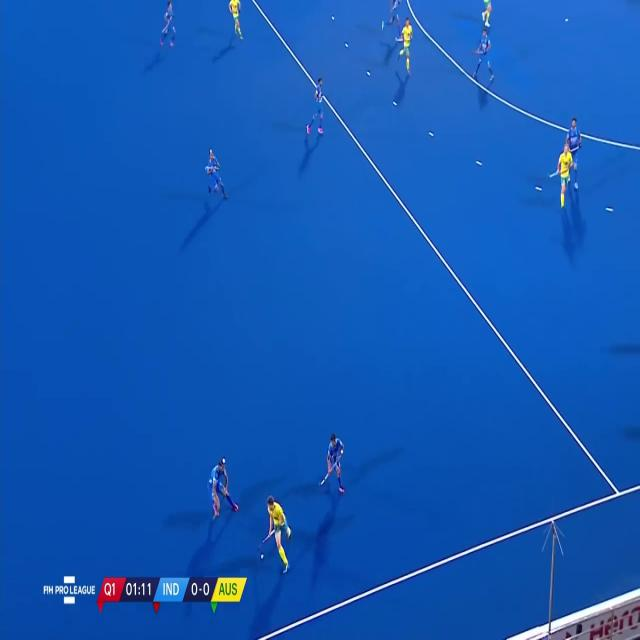ball: (259, 549, 268, 563)
